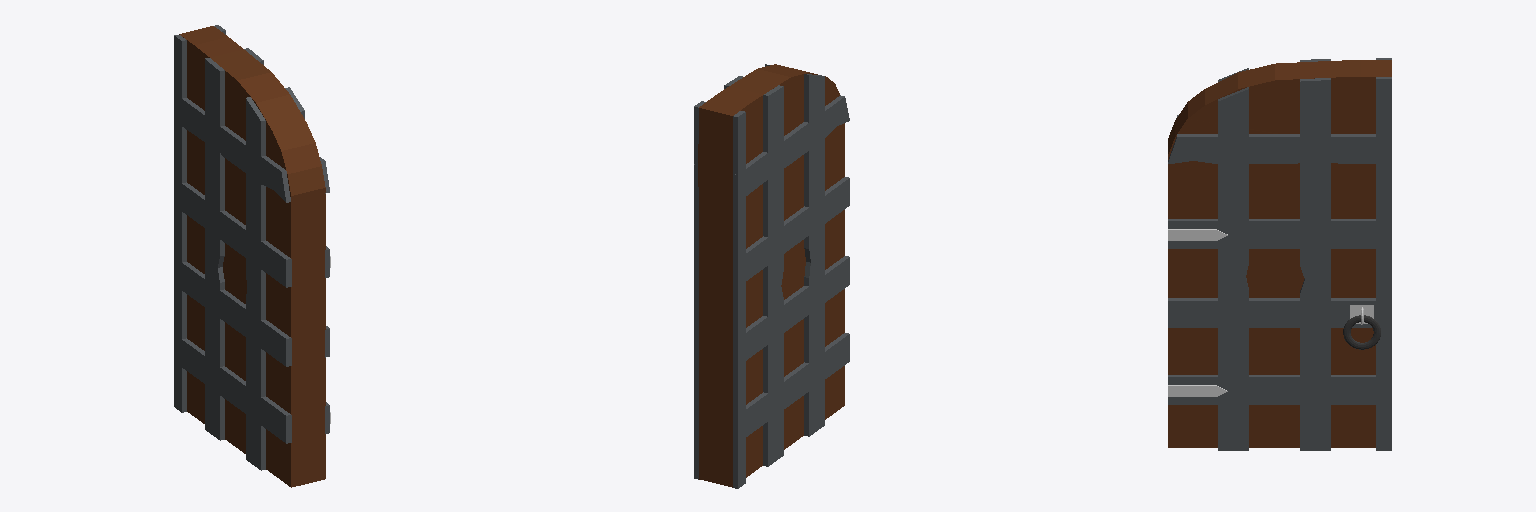
3 renders of one model, left to right at view 1: azimuth 30°, elevation 25°; view 2: azimuth 150°, elevation 25°; view 3: azimuth 270°, elevation 25°, orthographic.
Visible parts, largest first — view 1: Cube_Cube.001; view 2: Cube_Cube.001; view 3: Cube_Cube.001.
Part boxes in pixels (bbox=[...]): Cube_Cube.001: bbox=[174, 25, 330, 487]; Cube_Cube.001: bbox=[694, 64, 849, 488]; Cube_Cube.001: bbox=[1168, 58, 1391, 450].
Bounding box in the file's own units: 0.3584 × 2.47 × 1.35.
1 materials, 1 textured.